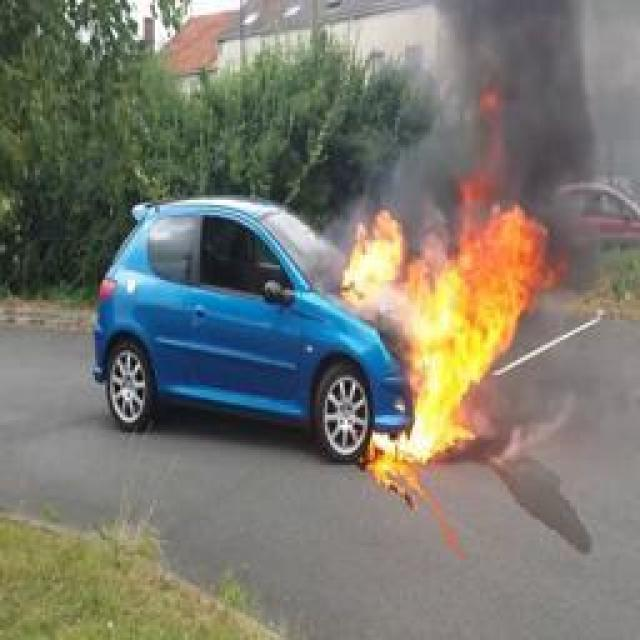Fire: (340, 90, 565, 460)
